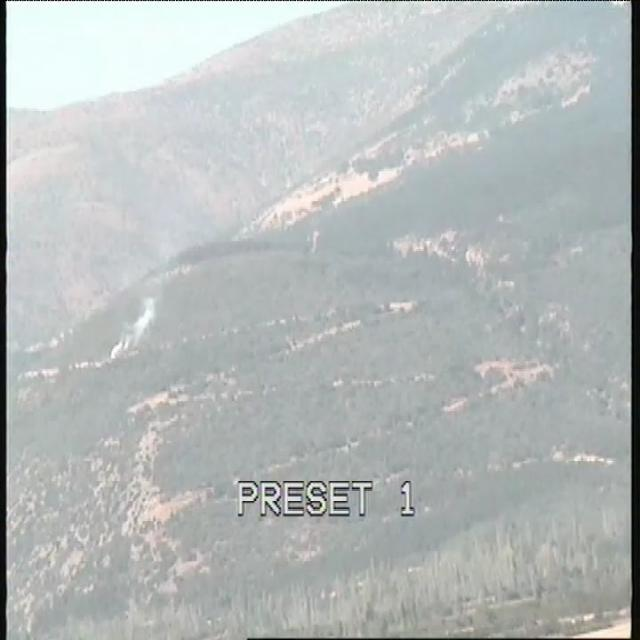smoke: (108, 295, 158, 365)
